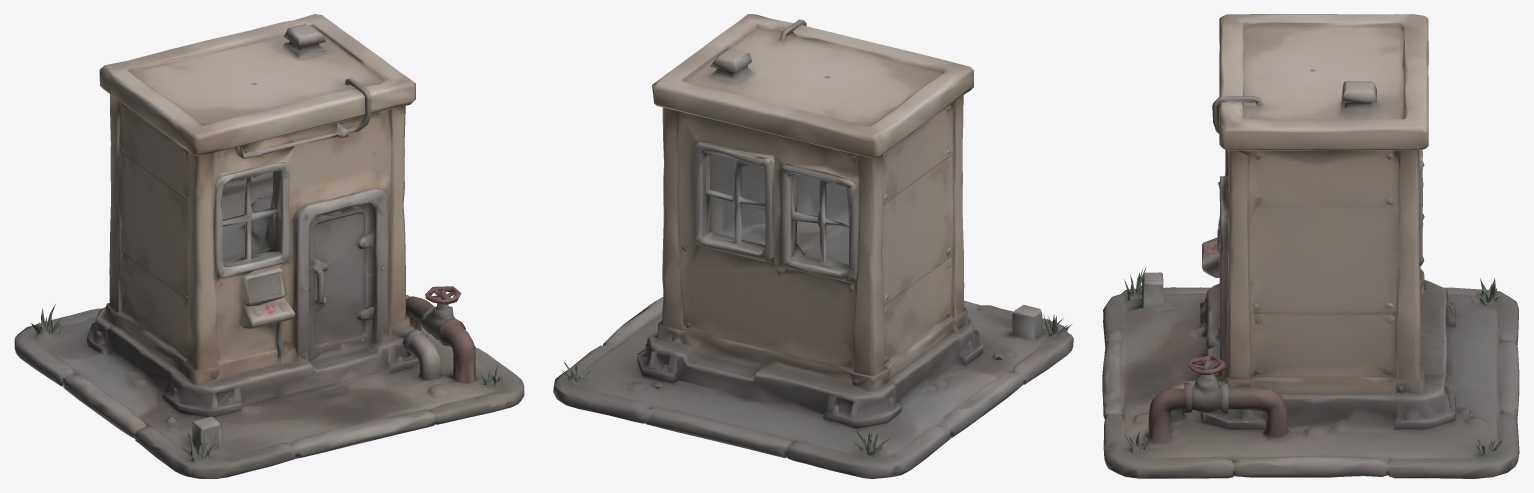
File: refinery_cabin.glb
The picture shows the model from 3 angles, left to right: view 1: azimuth 30°, elevation 25°; view 2: azimuth 150°, elevation 25°; view 3: azimuth 270°, elevation 25°; orthographic projection. The views are drawn at different scales.
Parts seen in each view (by area): view 1: tripo_node_b7a056c7-70bb-42c1-9fd6-fcc15de0ea32; view 2: tripo_node_b7a056c7-70bb-42c1-9fd6-fcc15de0ea32; view 3: tripo_node_b7a056c7-70bb-42c1-9fd6-fcc15de0ea32.
Part boxes in pixels (box(x1,y1,x2,y2)): tripo_node_b7a056c7-70bb-42c1-9fd6-fcc15de0ea32: box(14, 14, 524, 478); tripo_node_b7a056c7-70bb-42c1-9fd6-fcc15de0ea32: box(553, 14, 1073, 478); tripo_node_b7a056c7-70bb-42c1-9fd6-fcc15de0ea32: box(1102, 14, 1519, 478).
Bounding box in the file's own units: 1 × 0.8619 × 0.9739.
1 material, 1 textured.
